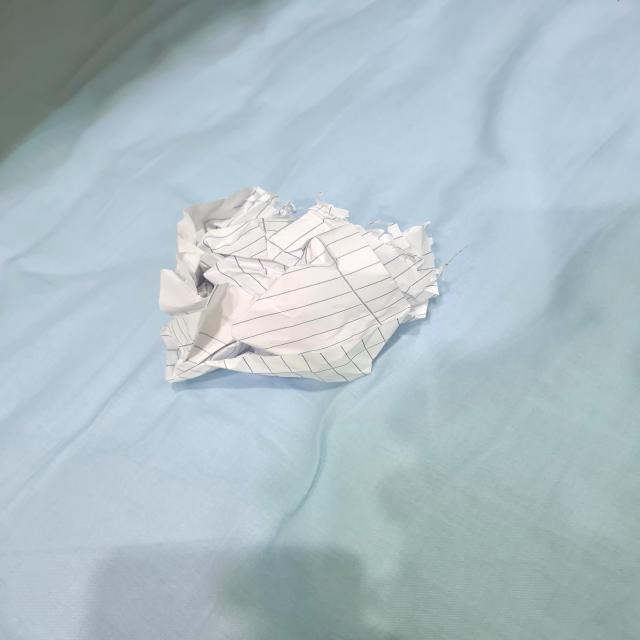Paper: (148, 170, 456, 410)
